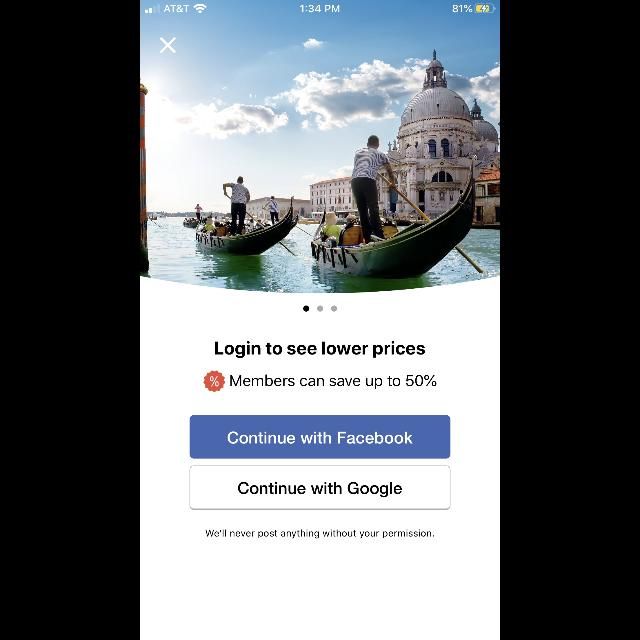icon: (160, 38, 176, 52)
image: (140, 0, 500, 294), (204, 371, 226, 393)
pageindicator: (303, 306, 337, 312)
text: (215, 342, 425, 358), (230, 375, 436, 389), (206, 530, 434, 538)
textbutton: (190, 466, 450, 510), (190, 416, 450, 458)
uppertaskbar: (140, 0, 500, 14)
